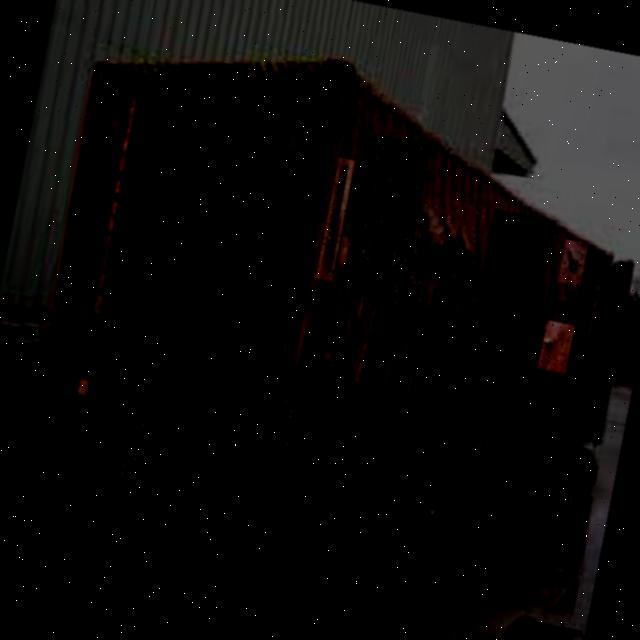Minor-Dent: (538, 321, 575, 374)
Rust: (340, 134, 432, 305), (468, 210, 556, 357), (406, 195, 487, 313), (316, 158, 355, 282), (115, 419, 148, 479), (270, 397, 296, 459), (558, 239, 589, 286)
